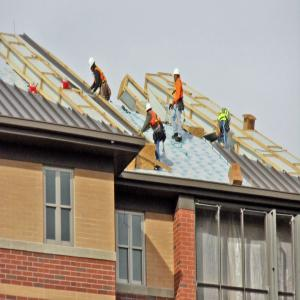white: (174, 68, 181, 82), (90, 59, 96, 72), (147, 103, 153, 115)
